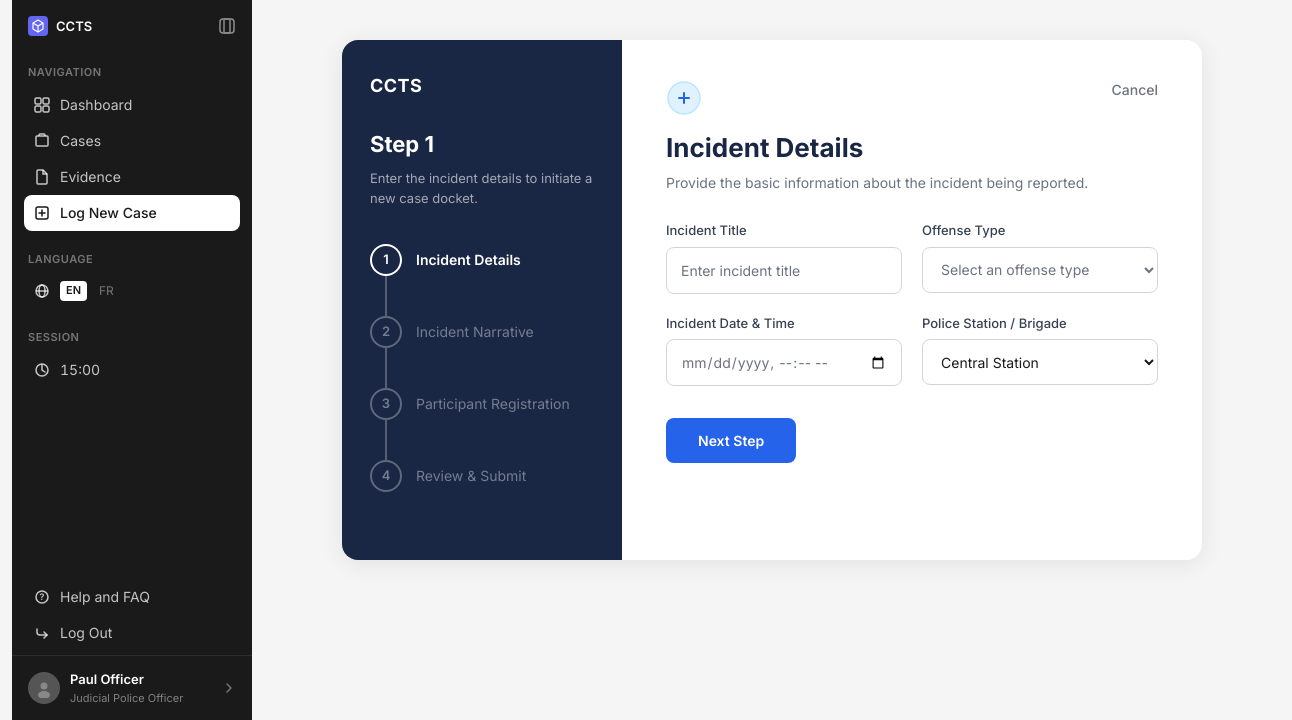
Test: P2 case initiation › shows progress and keeps entries when going back
Type "Market theft" into the field labelled "Incident Title" at (784,270), box [666,246,902,294]
Select "Theft" in the dropdown labelled "Offense Type" at (1040,270), box [922,246,1158,292]
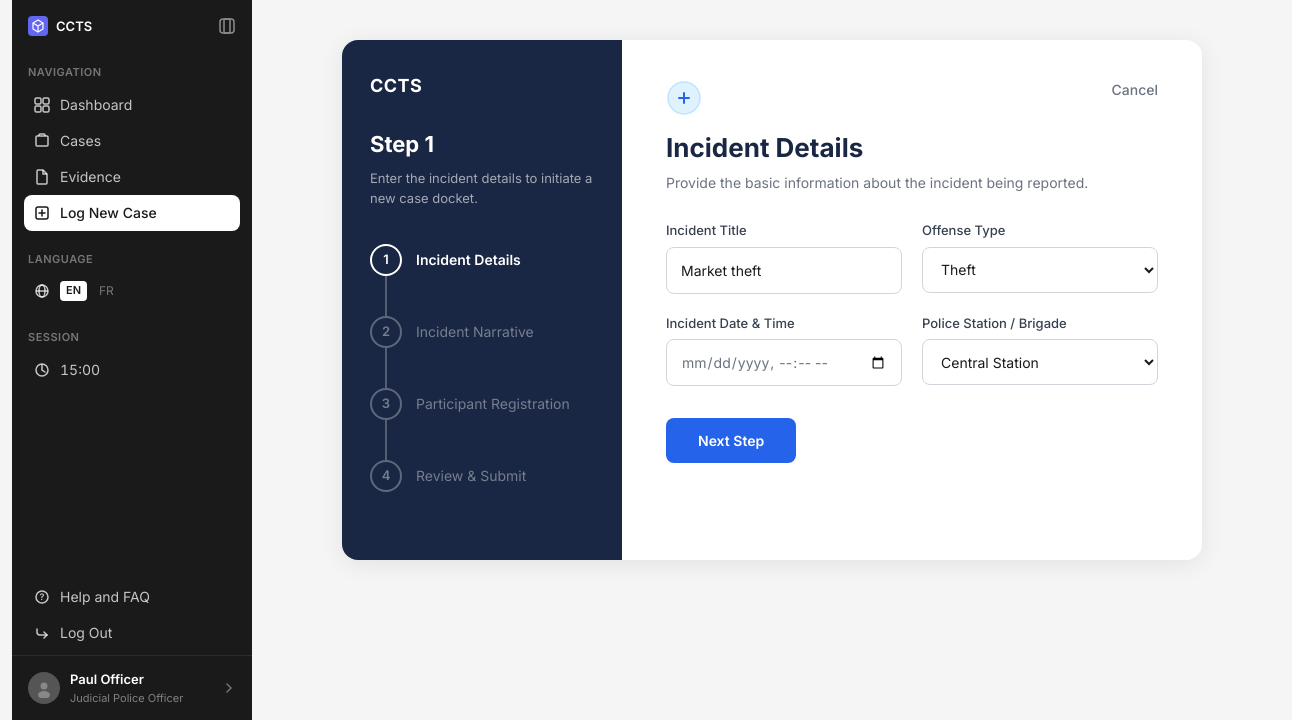
Type "2026-01-15T14:30" into the field labelled "Incident Date & Time" at (784,362), box [666,339,902,386]
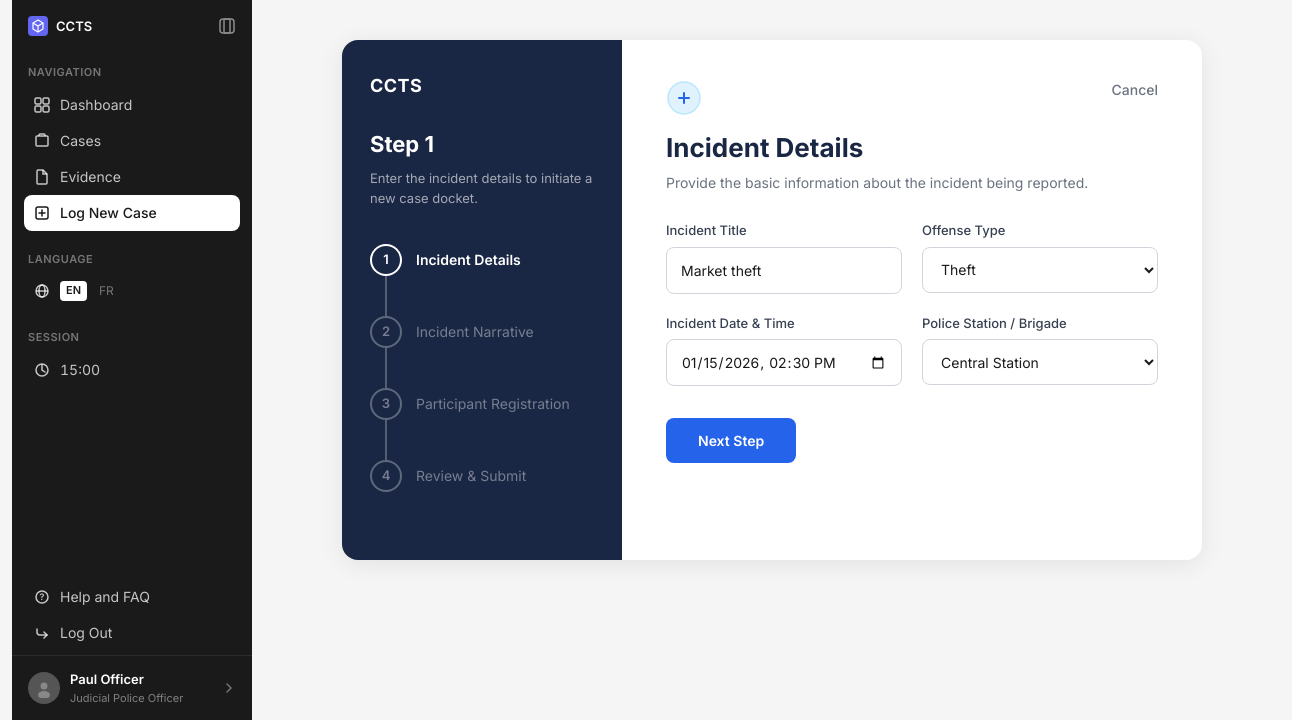
Click the button "Next Step" at (731,440), box [666,418,796,463]
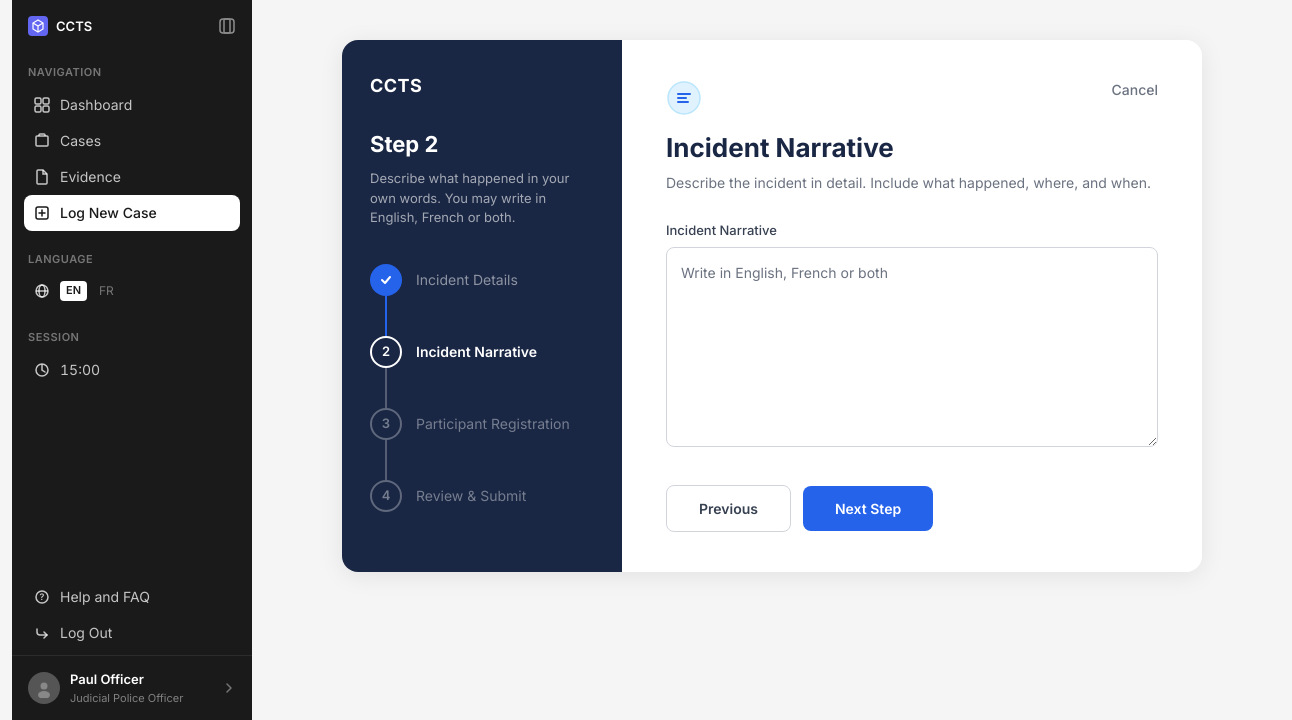
Type "Sac volé at the market" into the text box labelled "Incident Narrative" at (912,346), box [666,246,1158,446]
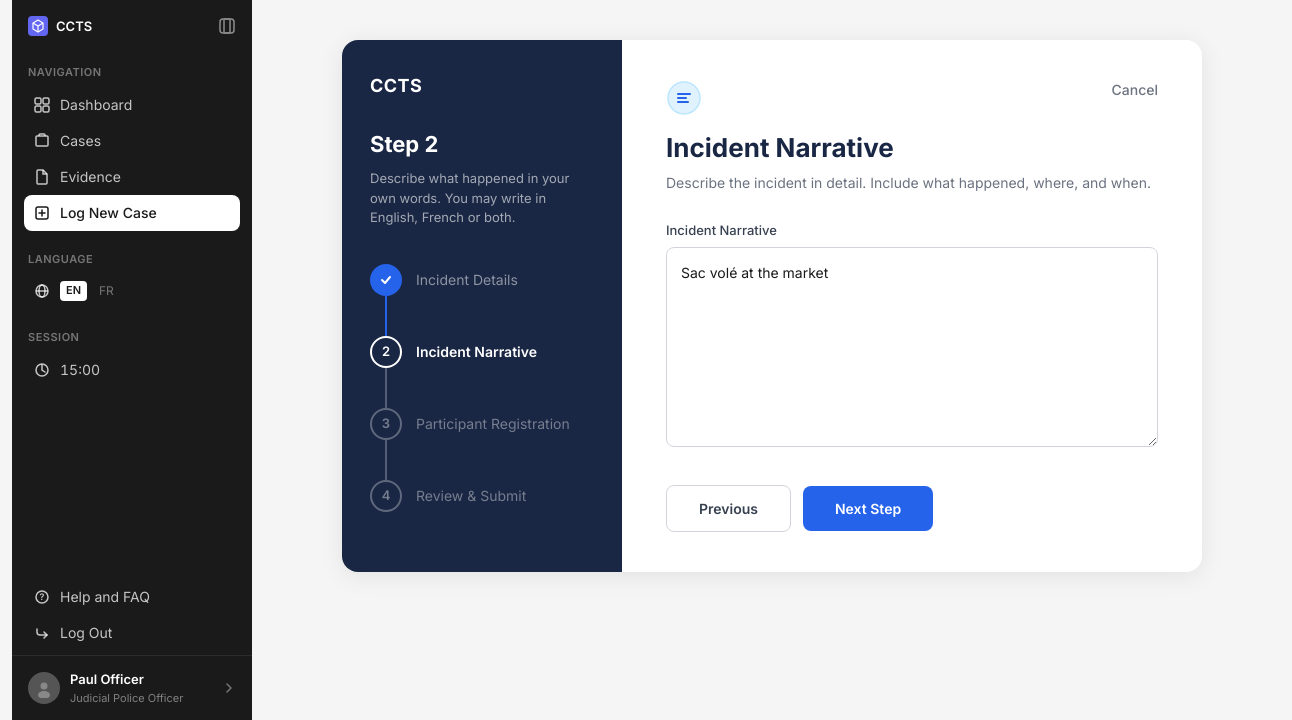
Click the button "Next Step" at (868,508), box [803,486,933,530]
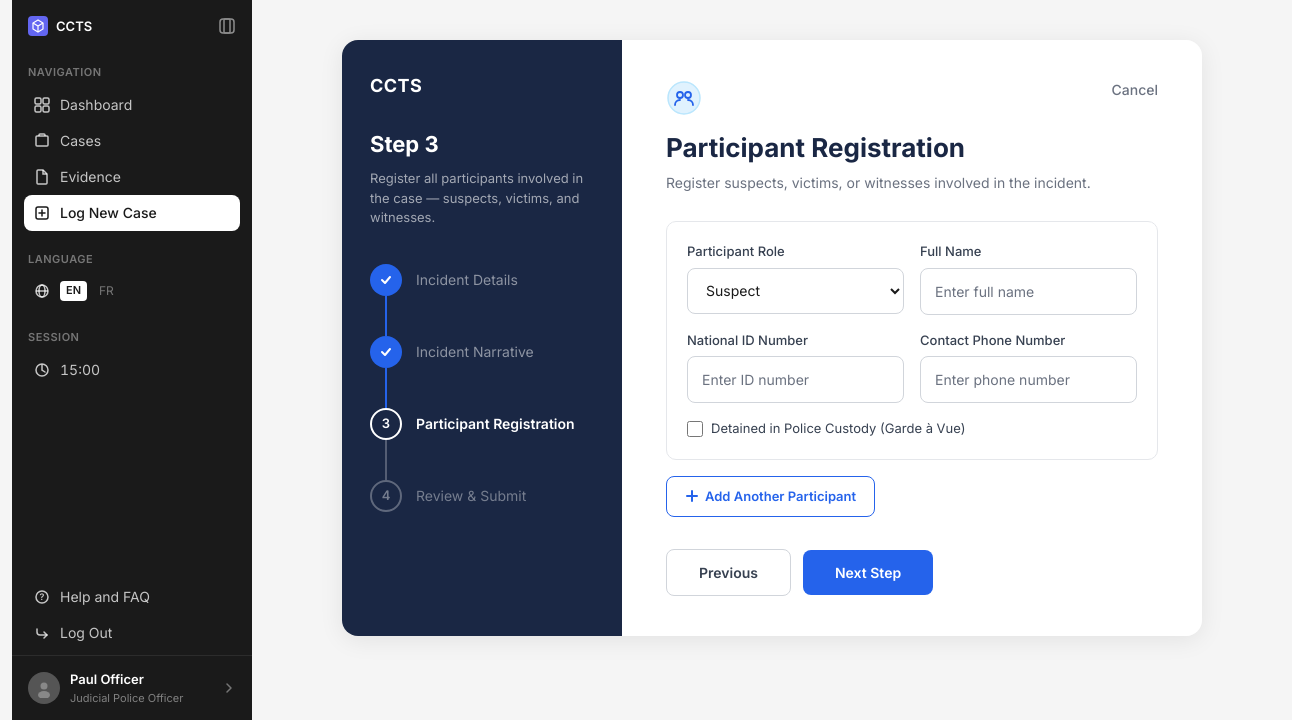
Check: the text "Step 3" is shown, box [370,131,439,157]
Click the button "Previous" at (728,572), box [666,549,791,596]
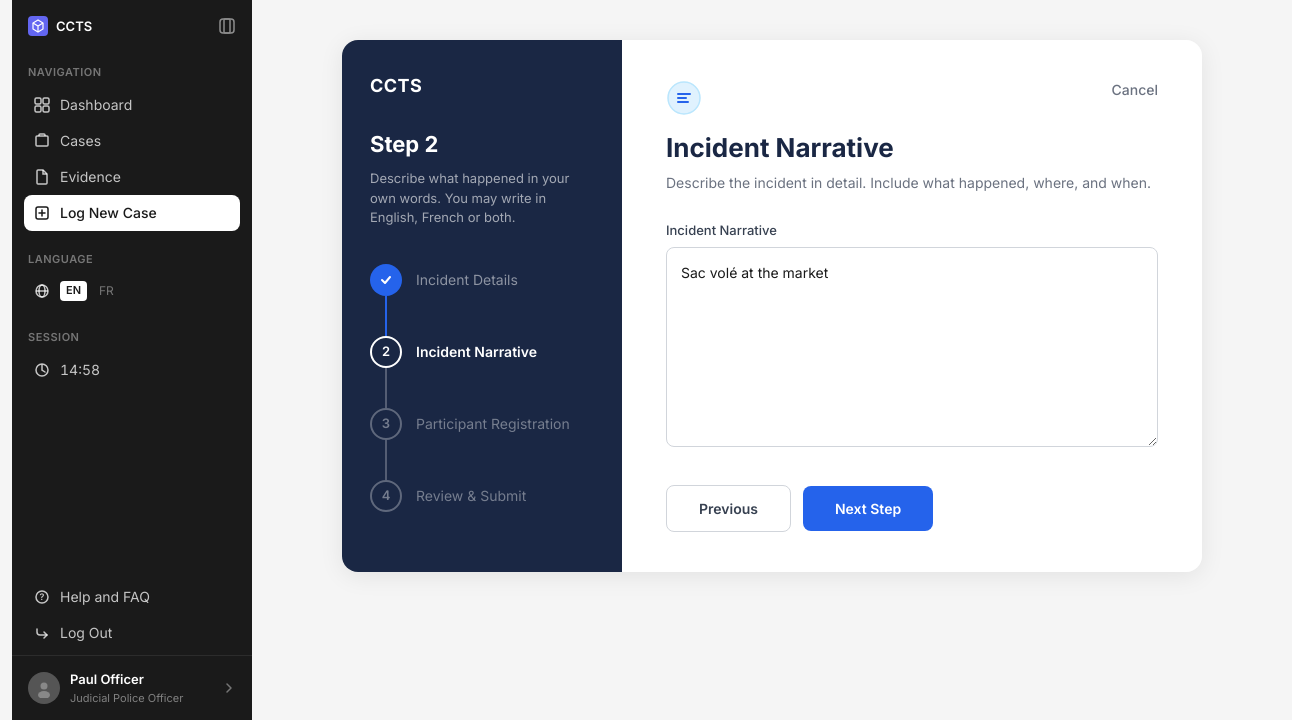
Check: the text box labelled "Incident Narrative" holds "Sac volé at the market", box [666,246,1158,446]
